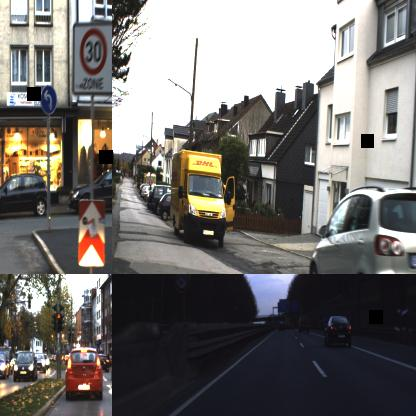go left or straight: (40, 84, 57, 115)
speed limit 120: (173, 274, 191, 293)
speed limit 30: (80, 28, 107, 76)
